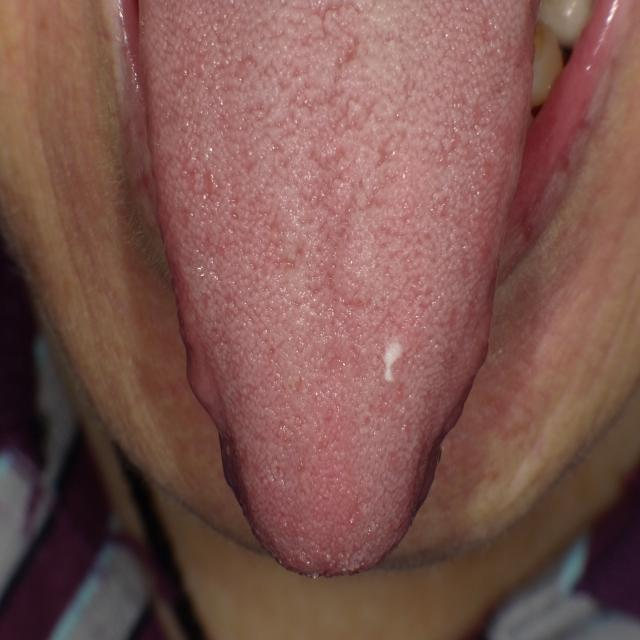baitaishe: (137, 1, 539, 578)
chihenshe: (411, 260, 500, 518), (175, 272, 255, 539)
